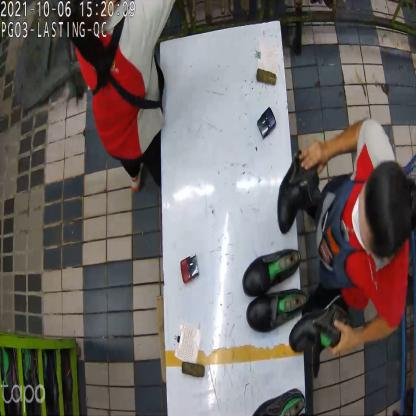shoes: (279, 154, 349, 358), (240, 247, 308, 331)
stamp: (257, 105, 276, 140), (180, 252, 200, 284)
